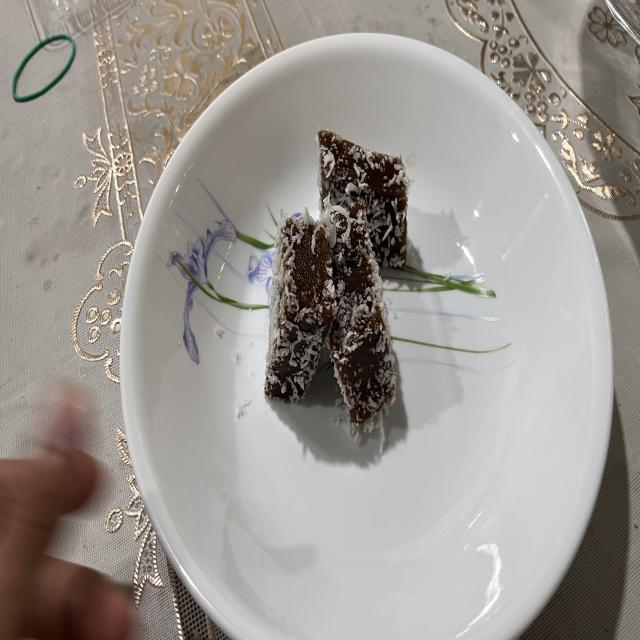kaswi: (329, 202, 396, 433), (265, 209, 338, 402), (318, 131, 411, 269)
